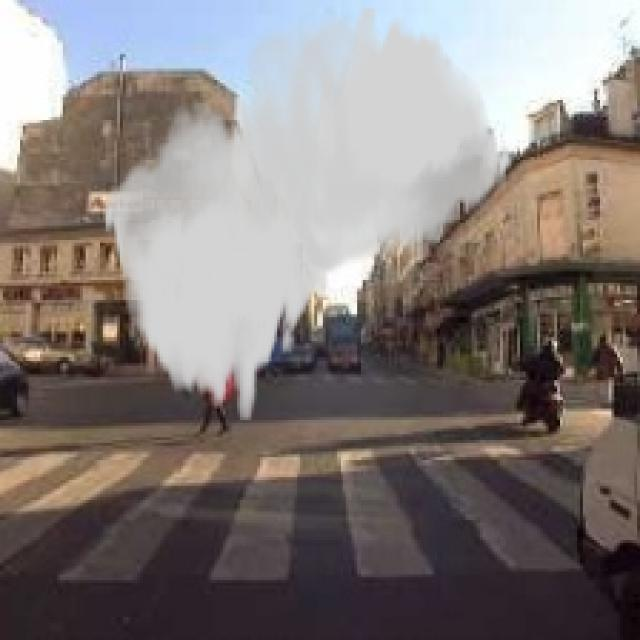Smoke: (102, 6, 514, 420)
